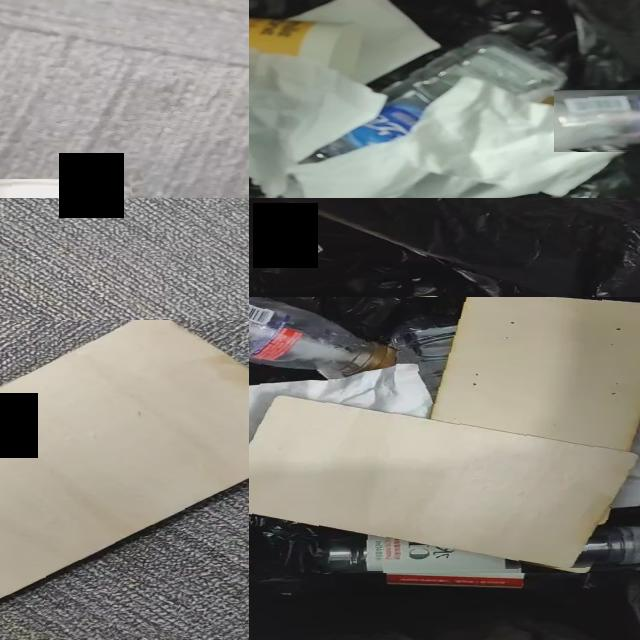bottle: (322, 36, 565, 159), (339, 537, 581, 588), (508, 299, 640, 380), (554, 90, 640, 151), (249, 532, 319, 572)
carton: (249, 297, 640, 568), (0, 320, 249, 604)
dixie_cup: (249, 18, 361, 76)
paper: (249, 54, 640, 198), (290, 0, 438, 84), (469, 367, 640, 422)
